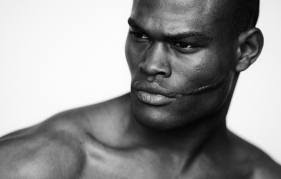black_male: (103, 1, 253, 158)
